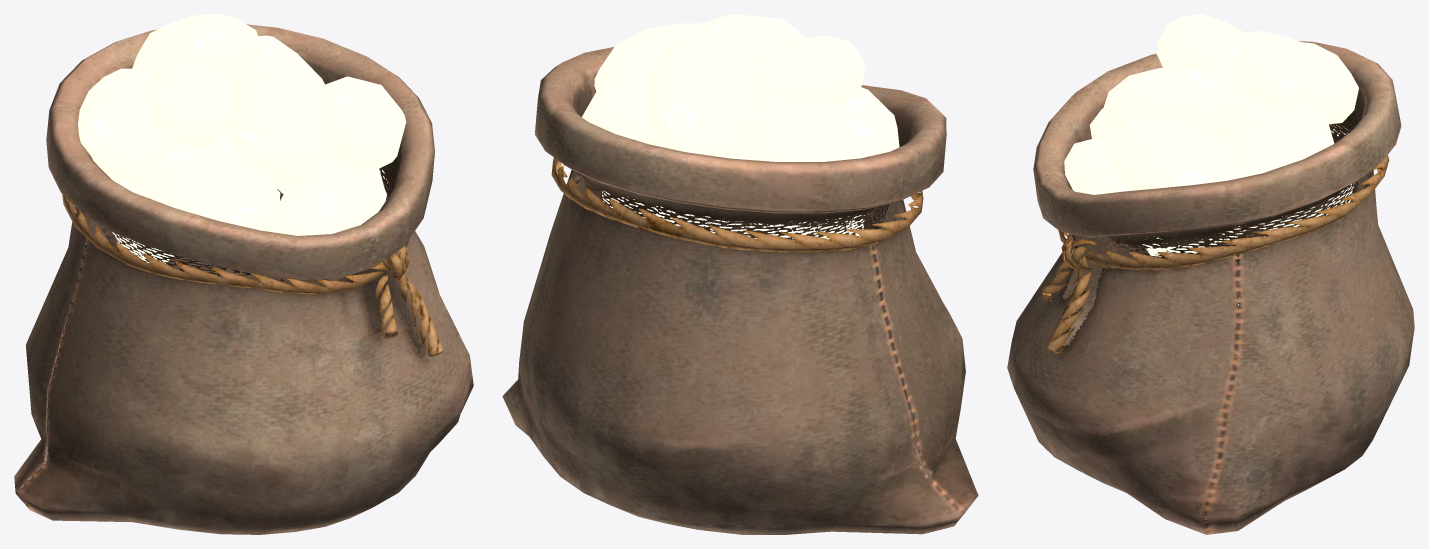
3 renders of one model, left to right at view 1: azimuth 30°, elevation 25°; view 2: azimuth 150°, elevation 25°; view 3: azimuth 270°, elevation 25°, orthographic. The views are drawn at different scales.
Visible parts, largest first — view 1: SM_Dec_Kitchen_Sack_Potato_Large_LOD0; view 2: SM_Dec_Kitchen_Sack_Potato_Large_LOD0; view 3: SM_Dec_Kitchen_Sack_Potato_Large_LOD0.
Part boxes in pixels (<box>): SM_Dec_Kitchen_Sack_Potato_Large_LOD0: <box>14,14,473,534</box>; SM_Dec_Kitchen_Sack_Potato_Large_LOD0: <box>502,14,978,534</box>; SM_Dec_Kitchen_Sack_Potato_Large_LOD0: <box>1007,14,1414,534</box>.
Size of the model in its own units: 0.9674 by 0.9076 by 0.8283.
2 materials, 2 textured.
